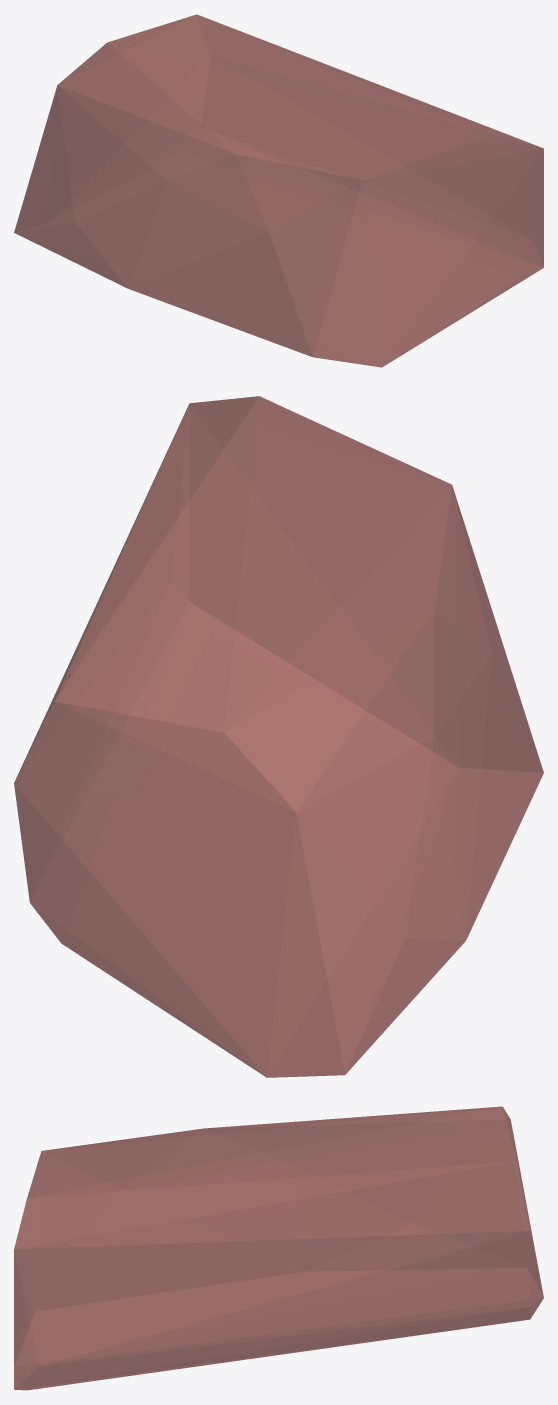
The picture shows the model from 3 angles, top to bottom: view 1: azimuth 30°, elevation 25°; view 2: azimuth 150°, elevation 25°; view 3: azimuth 270°, elevation 25°; orthographic projection. The views are drawn at different scales.
Visible parts, largest first — view 1: Shape_IndexedFaceSet.046_Shape_IndexedFaceSet.9093; view 2: Shape_IndexedFaceSet.046_Shape_IndexedFaceSet.9093; view 3: Shape_IndexedFaceSet.046_Shape_IndexedFaceSet.9093.
Part boxes in pixels (bbox=[...]): Shape_IndexedFaceSet.046_Shape_IndexedFaceSet.9093: bbox=[14, 14, 543, 367]; Shape_IndexedFaceSet.046_Shape_IndexedFaceSet.9093: bbox=[14, 396, 543, 1077]; Shape_IndexedFaceSet.046_Shape_IndexedFaceSet.9093: bbox=[14, 1106, 543, 1390].
Bounding box in the file's own units: 0.2139 × 0.1308 × 0.2677.
